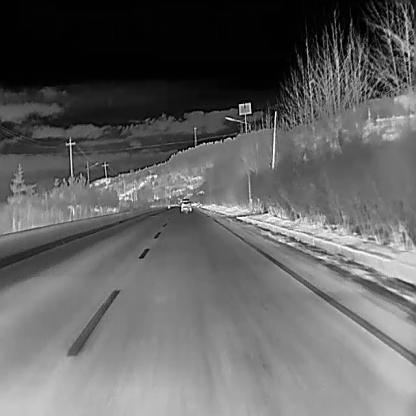car: (180, 198, 191, 210)
